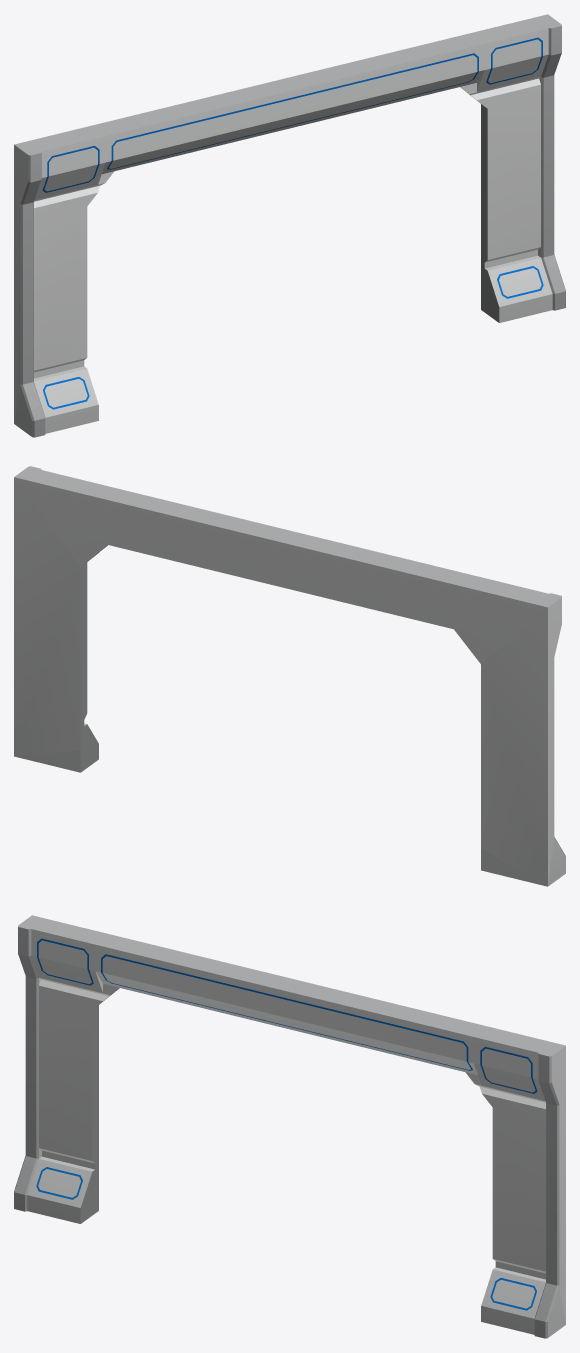
The model's file is Wall_type_A_063.fbx.
3 renders of one model, top to bottom at view 1: azimuth 30°, elevation 25°; view 2: azimuth 150°, elevation 25°; view 3: azimuth 330°, elevation 25°, orthographic.
Visible parts, largest first — view 1: Wall_type_A_063; view 2: Wall_type_A_063; view 3: Wall_type_A_063.
Part boxes in pixels (left/top/right/bottom): Wall_type_A_063: left=14, top=14, right=565, bottom=437; Wall_type_A_063: left=14, top=466, right=565, bottom=886; Wall_type_A_063: left=14, top=915, right=565, bottom=1338.
Bounding box in the file's own units: 800 × 50 × 400.
